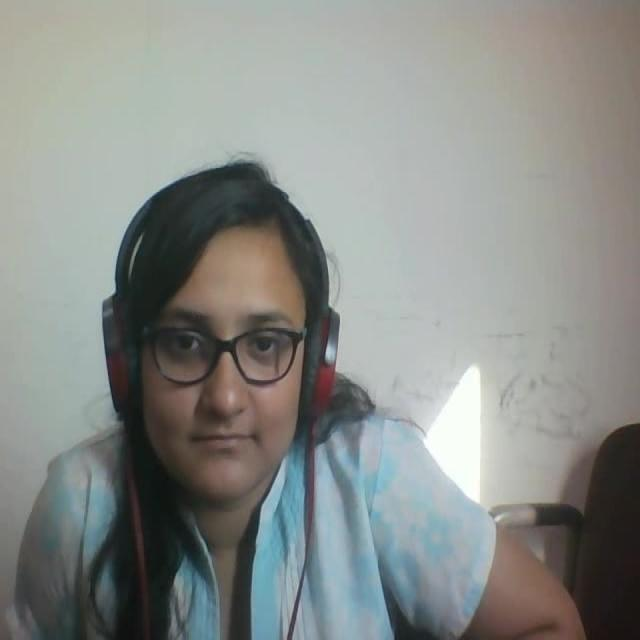Engaged: (88, 161, 364, 504)
